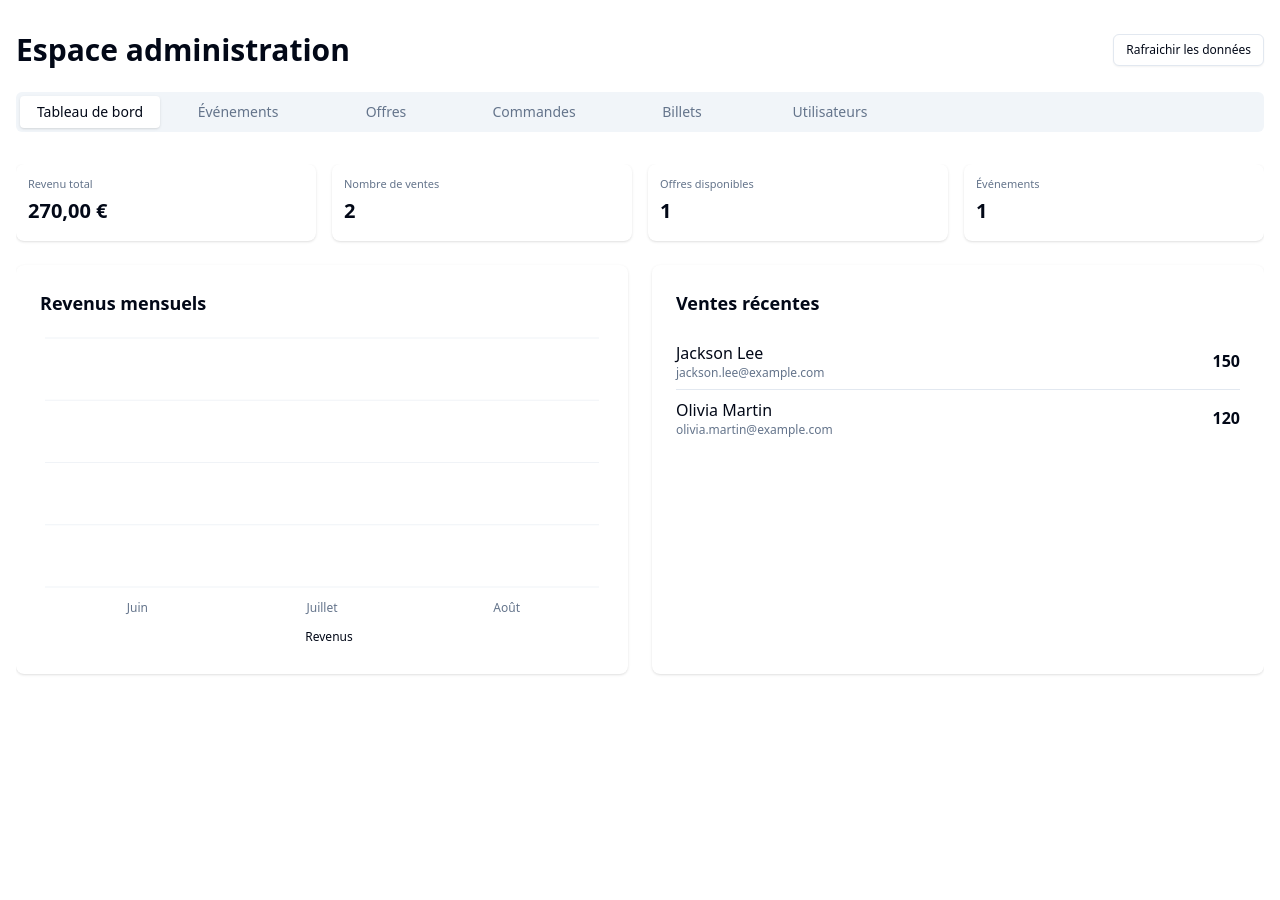
Test: AdminPage - Drawer édition offre › ouvre un Drawer avec les champs pré-remplis quand on clique sur Éditer
// Clique d'abord sur l'onglet "Offres" avec userEvent
Click the tab "Offres". click: (386, 112)
box: 316,96 -> 456,128
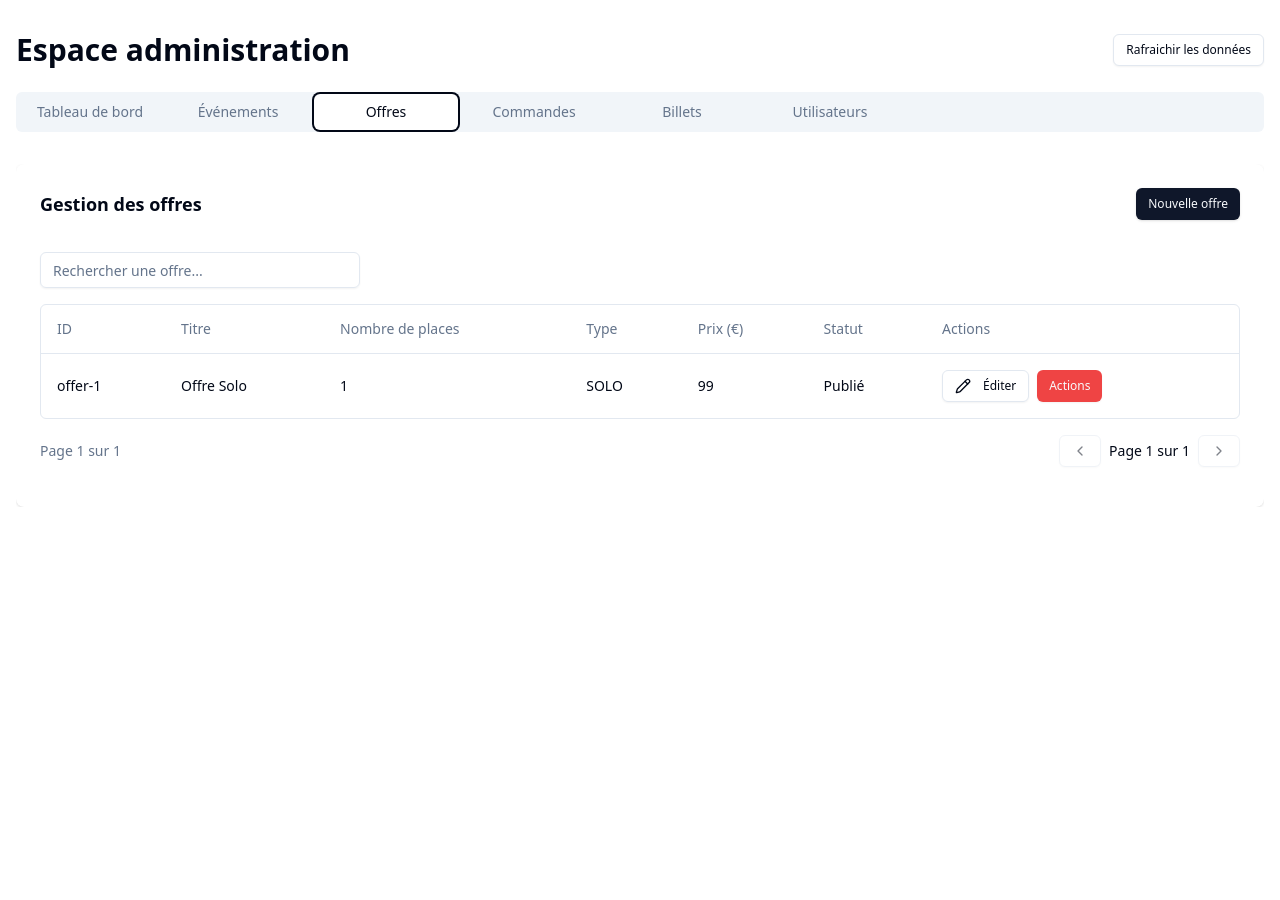
Check: the heading "Gestion des offres" is shown, box 40,190 -> 202,218
// Puis trouve tous les boutons "Éditer" et clique sur le premier
Click the button "Éditer". click: (986, 386)
box: 942,370 -> 1029,402
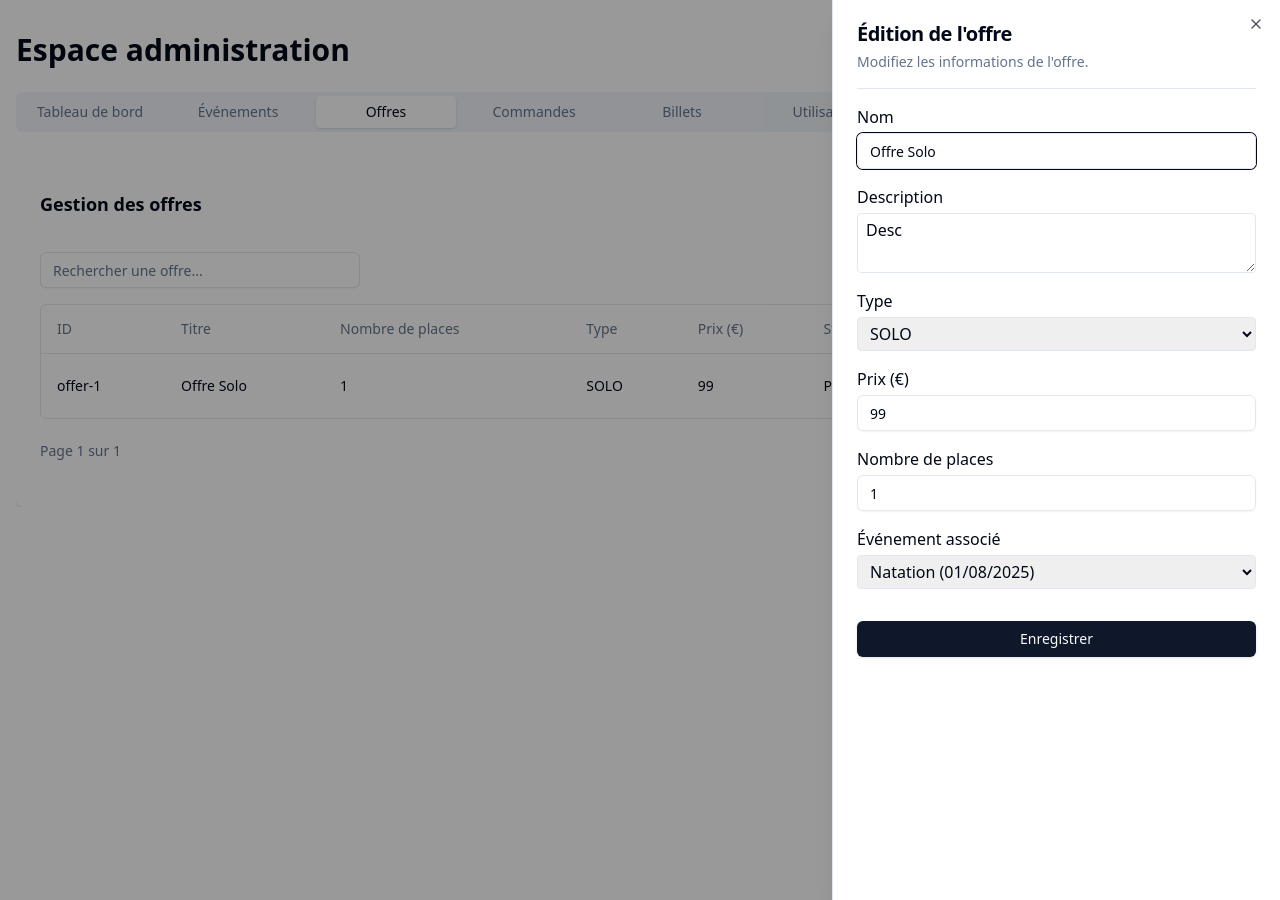
Check: the dialog is shown, box 832,0 -> 1279,899
Check: the heading "Édition de l'offre" is shown, box 857,20 -> 1012,47
Check: the field labelled "Nom" is shown, box 857,133 -> 1256,169
